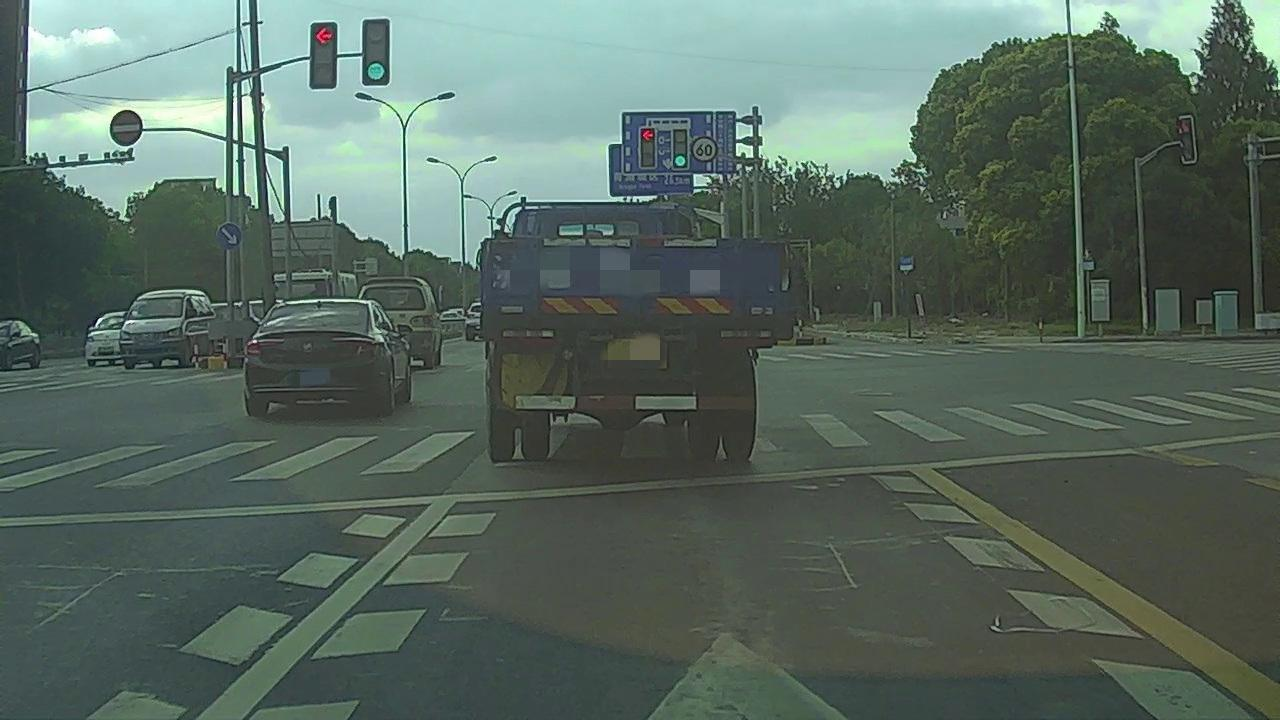traffic_light: (361, 18, 390, 86), (309, 22, 336, 89), (671, 129, 687, 170), (639, 128, 654, 168)
